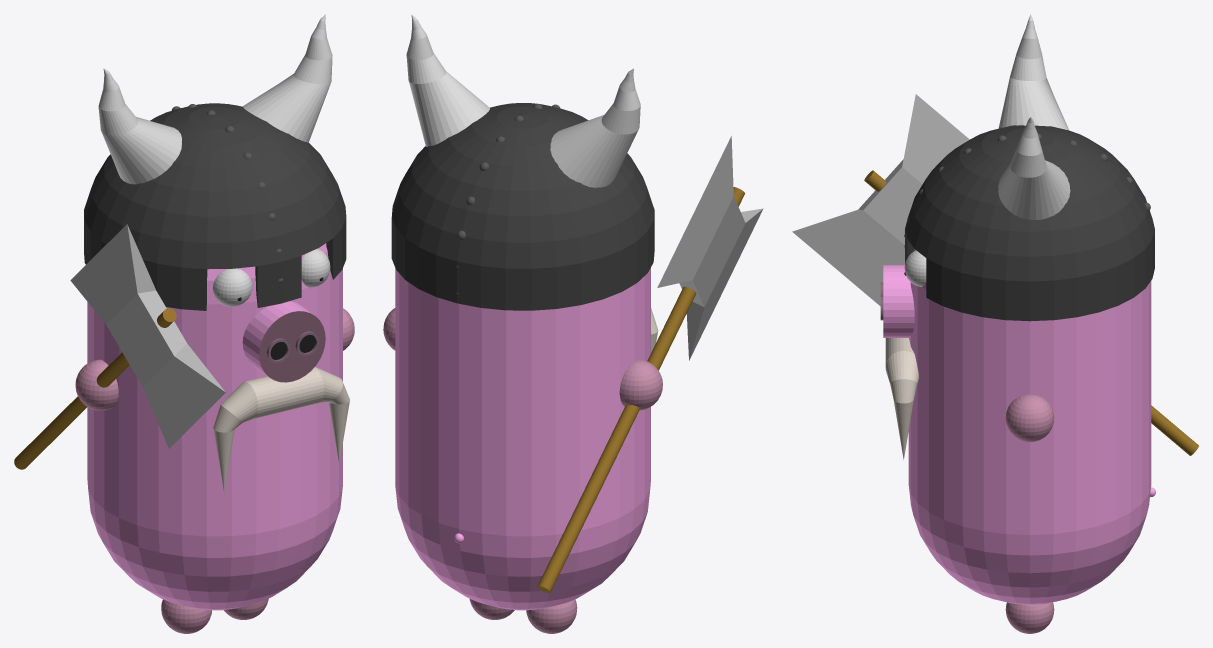
Rendered from Viping.fbx.
3 renders of one model, left to right at view 1: azimuth 30°, elevation 25°; view 2: azimuth 150°, elevation 25°; view 3: azimuth 270°, elevation 25°, orthographic. The views are drawn at different scales.
Visible parts, largest first — view 1: Pig, Axe; view 2: Pig, Axe; view 3: Pig, Axe.
Boxes of the visible parts, left/top/right/bottom form: Pig: left=75, top=14, right=354, bottom=633; Axe: left=14, top=224, right=225, bottom=469; Pig: left=383, top=14, right=662, bottom=633; Axe: left=537, top=136, right=763, bottom=593; Pig: left=880, top=14, right=1155, bottom=633; Axe: left=792, top=94, right=1198, bottom=455.
Size of the model in its own units: 128 by 251 by 168.
